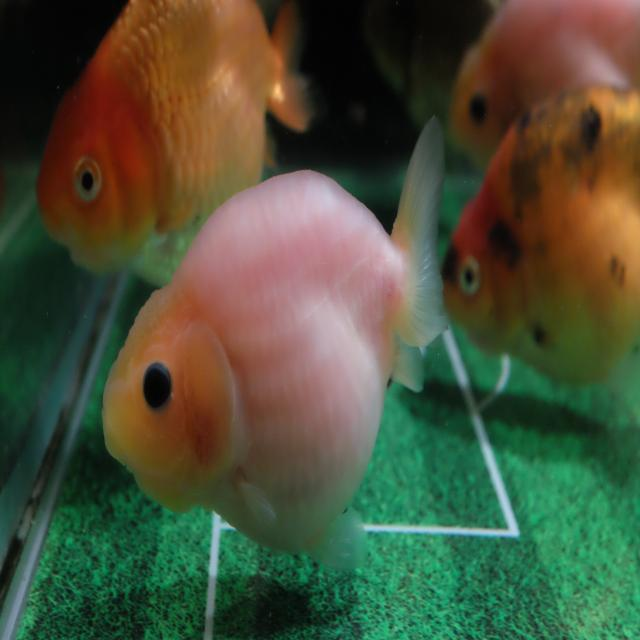Goldfish: (99, 113, 447, 573), (34, 1, 314, 291), (440, 85, 640, 392), (449, 0, 640, 177)
